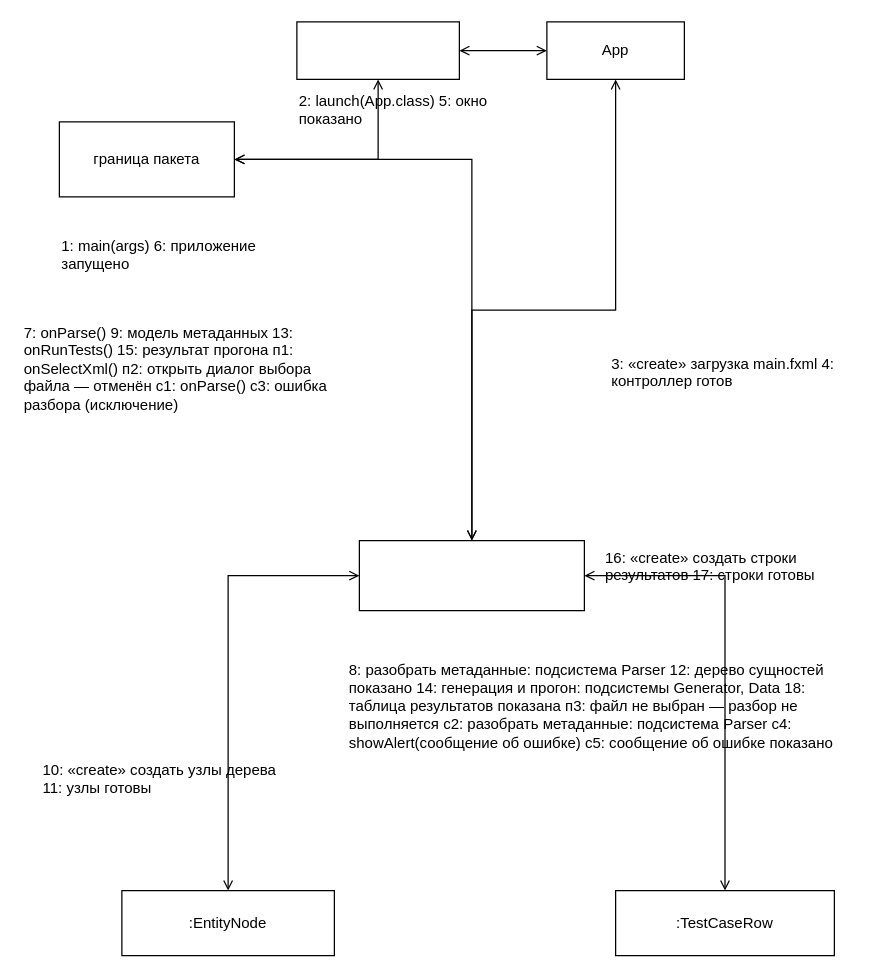
Image size: 886x978. Some labels were removed from this diagram. The centre of each missing label's shape, as x and y in pixels:
":MainController" belongs at (471,575).
"Launcher" belongs at (377,50).
